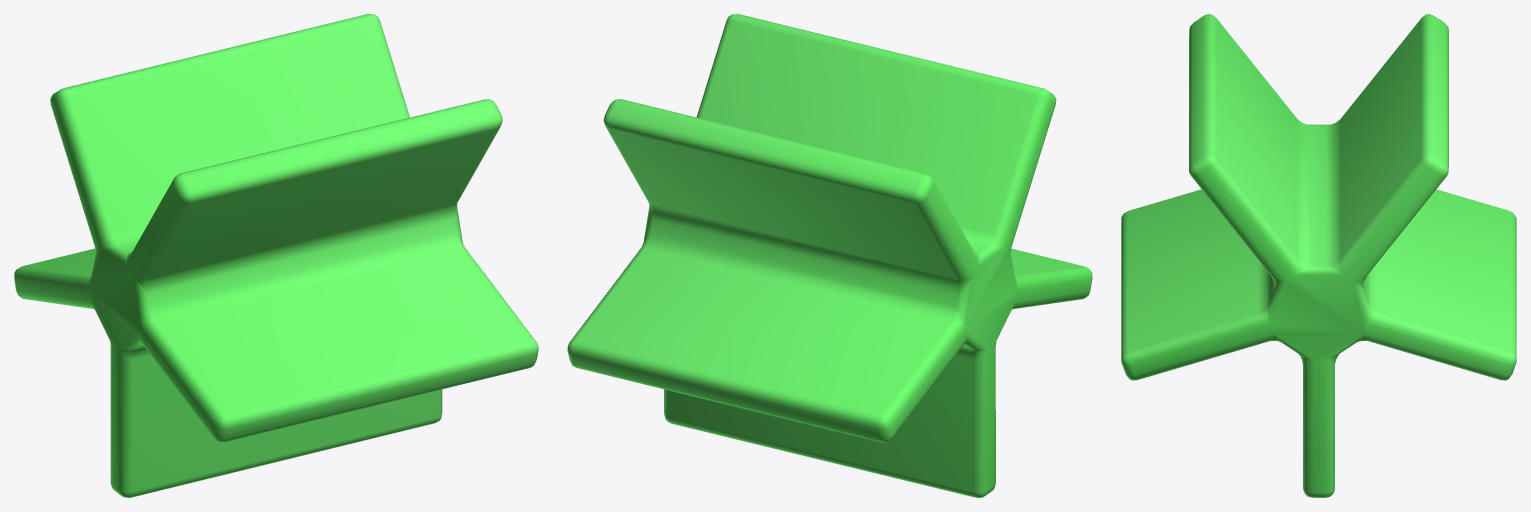
Rendered from platformcirclevertical_002.fbx.
The picture shows the model from 3 angles, left to right: view 1: azimuth 30°, elevation 25°; view 2: azimuth 150°, elevation 25°; view 3: azimuth 270°, elevation 25°; orthographic projection. The views are drawn at different scales.
Parts seen in each view (by area): view 1: Cylinder.042; view 2: Cylinder.042; view 3: Cylinder.042.
Part boxes in pixels (x1,y1,x2,y2): Cylinder.042: (14, 14, 538, 497); Cylinder.042: (567, 14, 1092, 497); Cylinder.042: (1121, 14, 1516, 497).
Bounding box in the file's own units: 197 × 212 × 223.
1 material, 1 textured.
